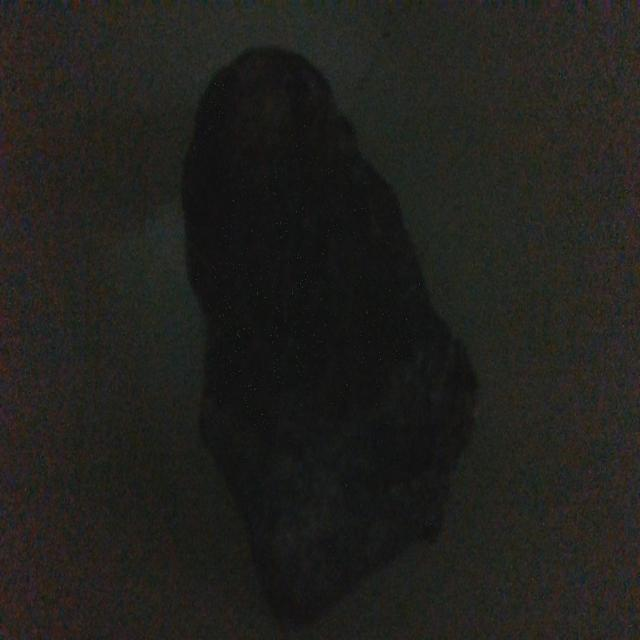stone: (180, 39, 480, 640)
